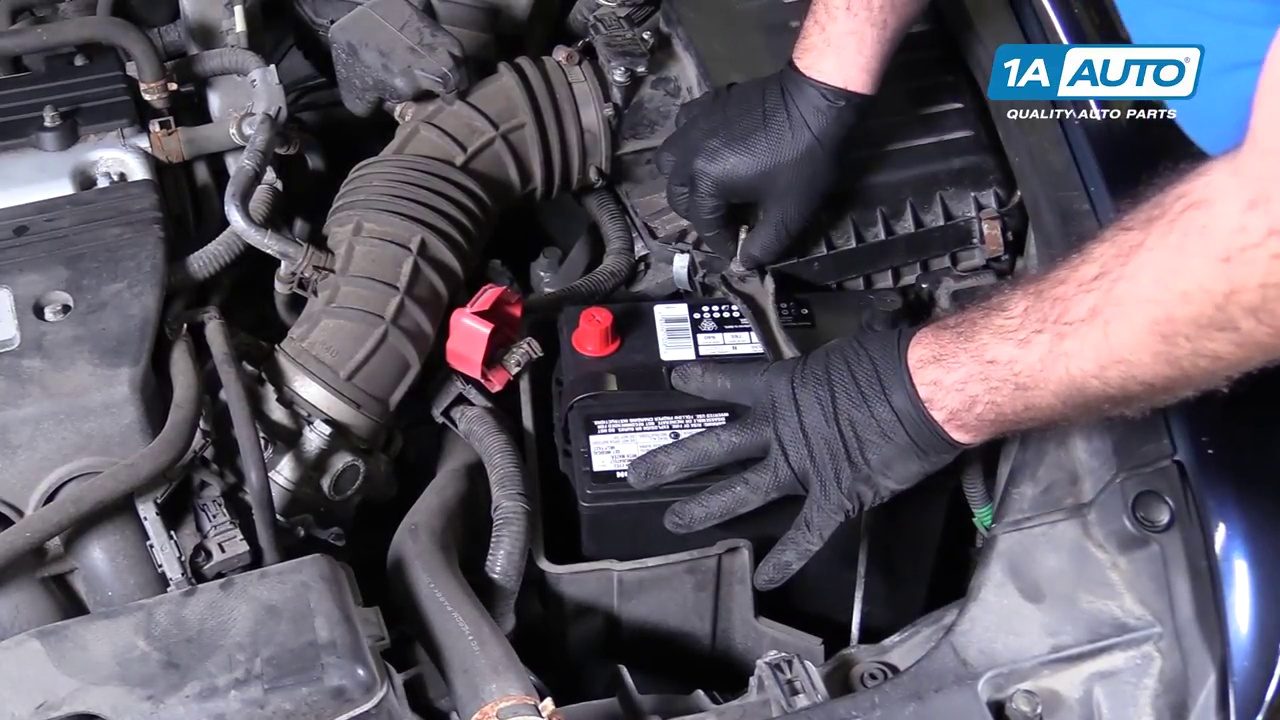battery: (560, 294, 933, 489)
pos_disconnected: (436, 264, 633, 392)
